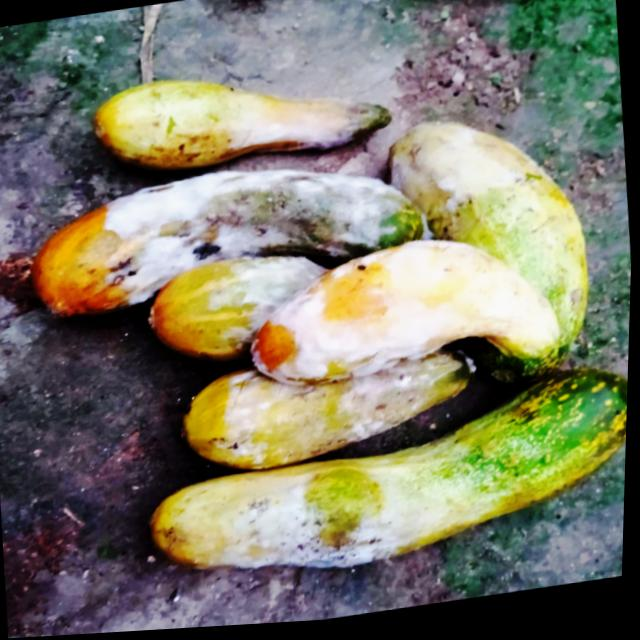Pythium-Fruit-Rot: (244, 233, 510, 400), (103, 150, 393, 302), (223, 349, 453, 468), (228, 460, 426, 590), (217, 69, 367, 173), (385, 117, 528, 218), (213, 243, 325, 353)
